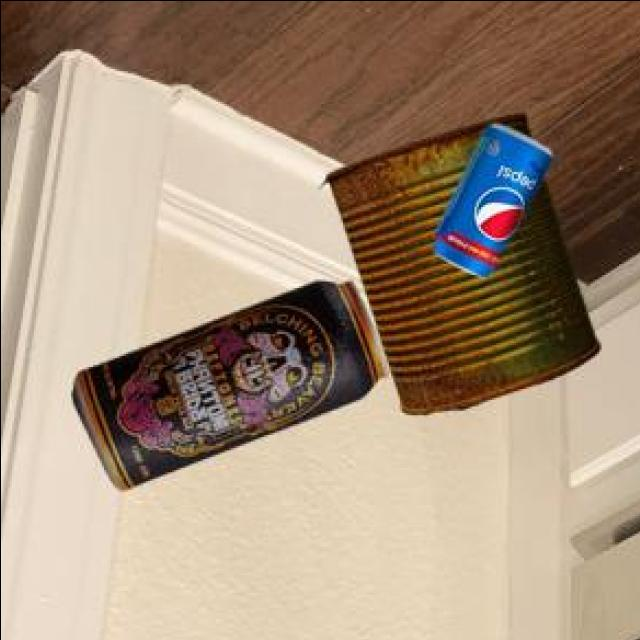logam: (328, 115, 602, 418), (76, 284, 389, 490), (437, 126, 553, 279)
